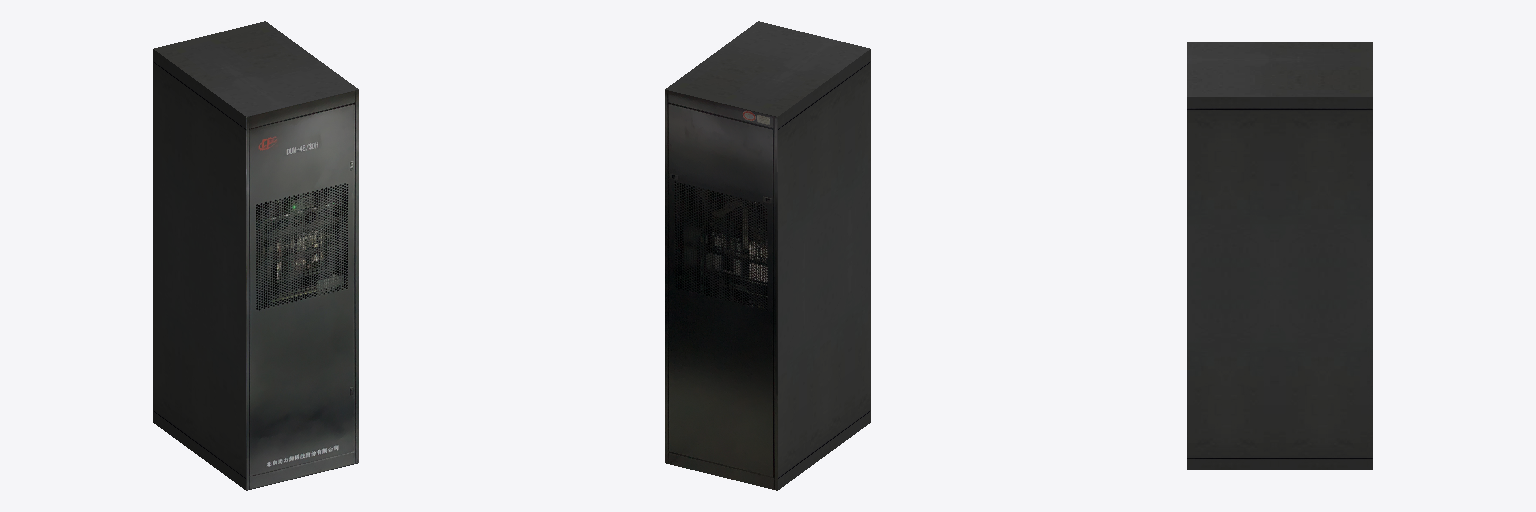
3 renders of one model, left to right at view 1: azimuth 30°, elevation 25°; view 2: azimuth 150°, elevation 25°; view 3: azimuth 270°, elevation 25°, orthographic.
Parts seen in each view (by area): view 1: Box001; view 2: Box001; view 3: Box001.
Boxes of the visible parts, <box> form: Box001: <box>153,21,358,490</box>; Box001: <box>665,21,870,490</box>; Box001: <box>1187,42,1372,469</box>.
Bounding box in the file's own units: 67.92 × 215 × 97.33.
1 materials, 1 textured.